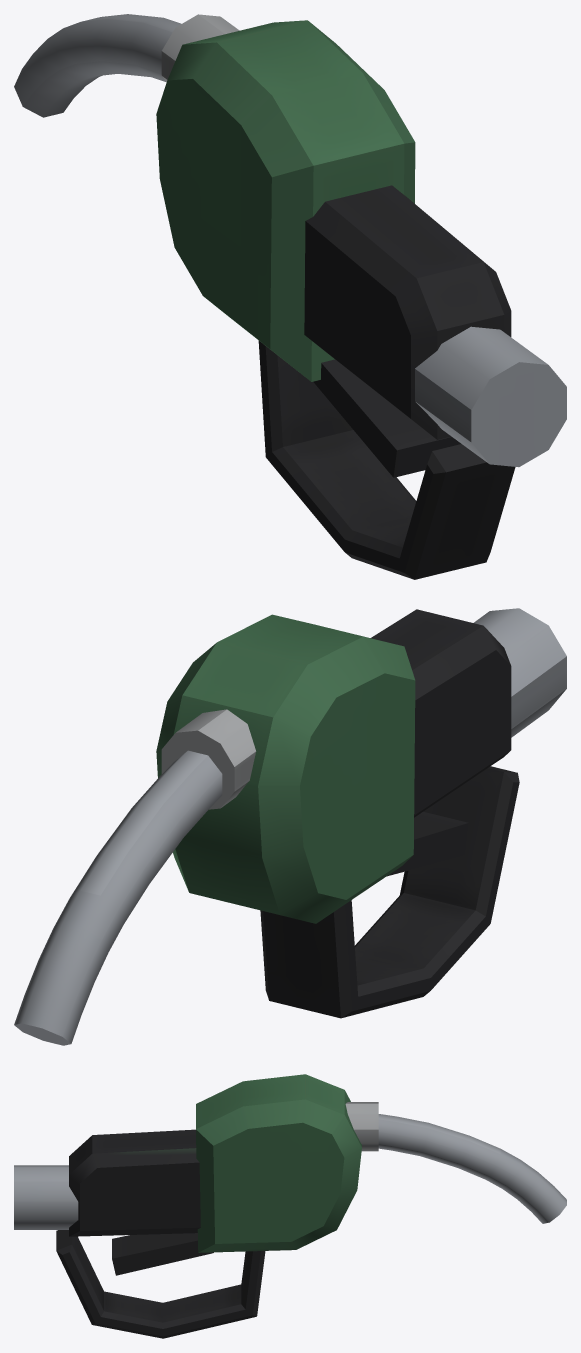
The model's file is held_diesel.obj.
The picture shows the model from 3 angles, top to bottom: view 1: azimuth 30°, elevation 25°; view 2: azimuth 150°, elevation 25°; view 3: azimuth 270°, elevation 25°; orthographic projection. The views are drawn at different scales.
Parts seen in each view (by area): view 1: item_diesel_cover, item_diesel_guard, item_diesel_handle, item_diesel_steel, item_diesel_collar; view 2: item_diesel_cover, item_diesel_guard, item_diesel_steel, item_diesel_handle, item_diesel_collar; view 3: item_diesel_cover, item_diesel_handle, item_diesel_guard, item_diesel_steel, item_diesel_collar.
Part boxes in pixels (x1,y1,x2,y2): item_diesel_cover: (156,20,415,381); item_diesel_guard: (258,340,515,579); item_diesel_handle: (304,185,511,439); item_diesel_steel: (14,14,566,467); item_diesel_collar: (161,14,239,81); item_diesel_cover: (156,614,415,923); item_diesel_guard: (260,766,519,1018); item_diesel_steel: (14,608,566,1045); item_diesel_handle: (371,609,511,817); item_diesel_collar: (161,709,256,809); item_diesel_cover: (196,1074,361,1252); item_diesel_handle: (69,1129,200,1236); item_diesel_guard: (56,1230,265,1338); item_diesel_steel: (14,1114,566,1229); item_diesel_collar: (345,1102,378,1151).
Size of the model in its own units: 0.075 by 0.2129 by 0.4409.
